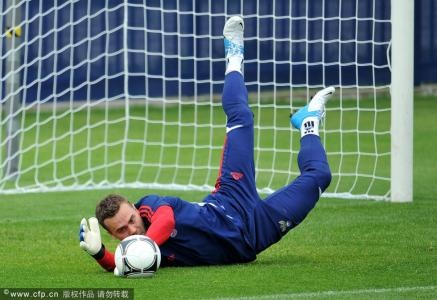falling: (71, 2, 357, 287)
